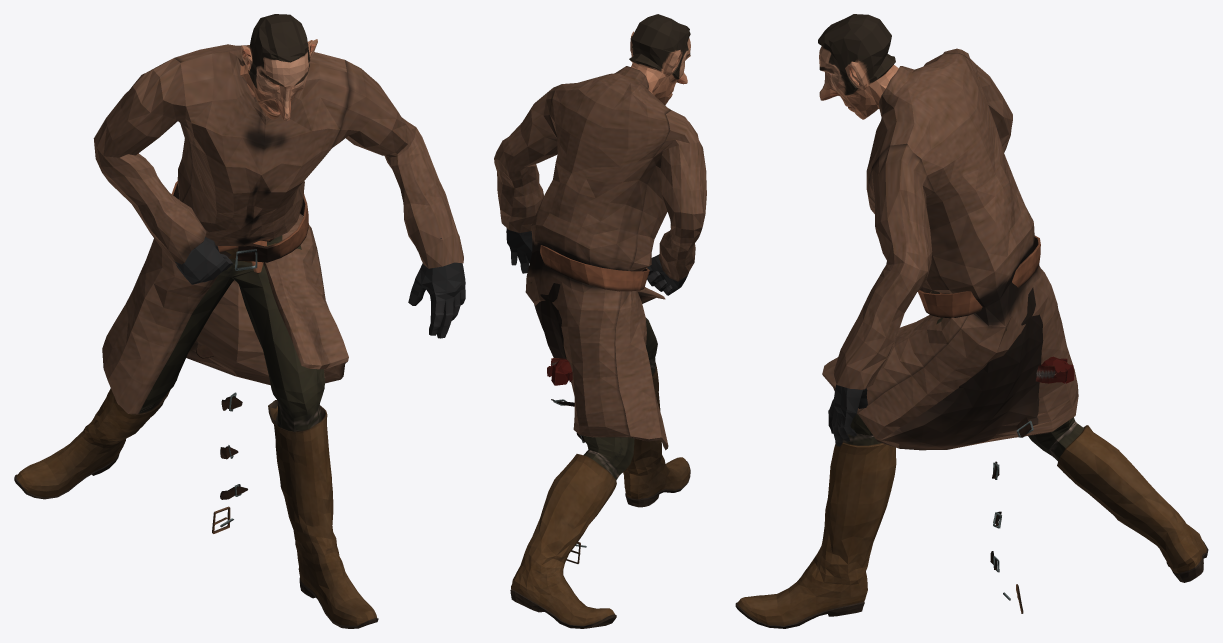
Rendered from sniper01_000007.obj.
3 renders of one model, left to right at view 1: azimuth 30°, elevation 25°; view 2: azimuth 150°, elevation 25°; view 3: azimuth 270°, elevation 25°, orthographic. The views are drawn at different scales.
Parts seen in each view (by area): view 1: Tops, Shoes, BodyParts, Bottoms; view 2: Tops, Shoes, BodyParts, Bottoms; view 3: Tops, Shoes, BodyParts, Bottoms.
Part boxes in pixels (x1=…): Tops: x1=93, y1=44, x2=463, y2=527; Shoes: x1=14, y1=388, x2=378, y2=628; BodyParts: x1=174, y1=14, x2=465, y2=338; Bottoms: x1=139, y1=235, x2=324, y2=533; Tops: x1=494, y1=66, x2=706, y2=547; Shoes: x1=510, y1=363, x2=690, y2=628; BodyParts: x1=506, y1=14, x2=690, y2=385; Bottoms: x1=530, y1=282, x2=657, y2=563; Tops: x1=822, y1=48, x2=1078, y2=600; Shoes: x1=735, y1=425, x2=1208, y2=628; BodyParts: x1=818, y1=14, x2=1074, y2=446; Bottoms: x1=842, y1=290, x2=1083, y2=613.
Bounding box in the file's own units: 1.22 × 2.28 × 1.67.
